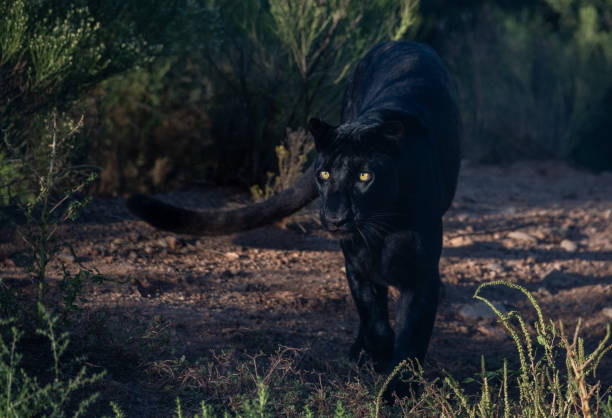panther: (299, 115, 414, 253)
